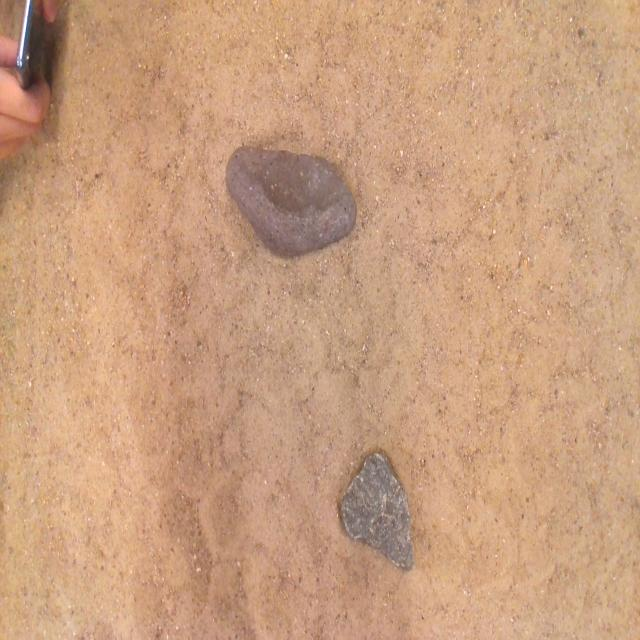rock: (226, 148, 356, 256), (341, 453, 413, 569)
